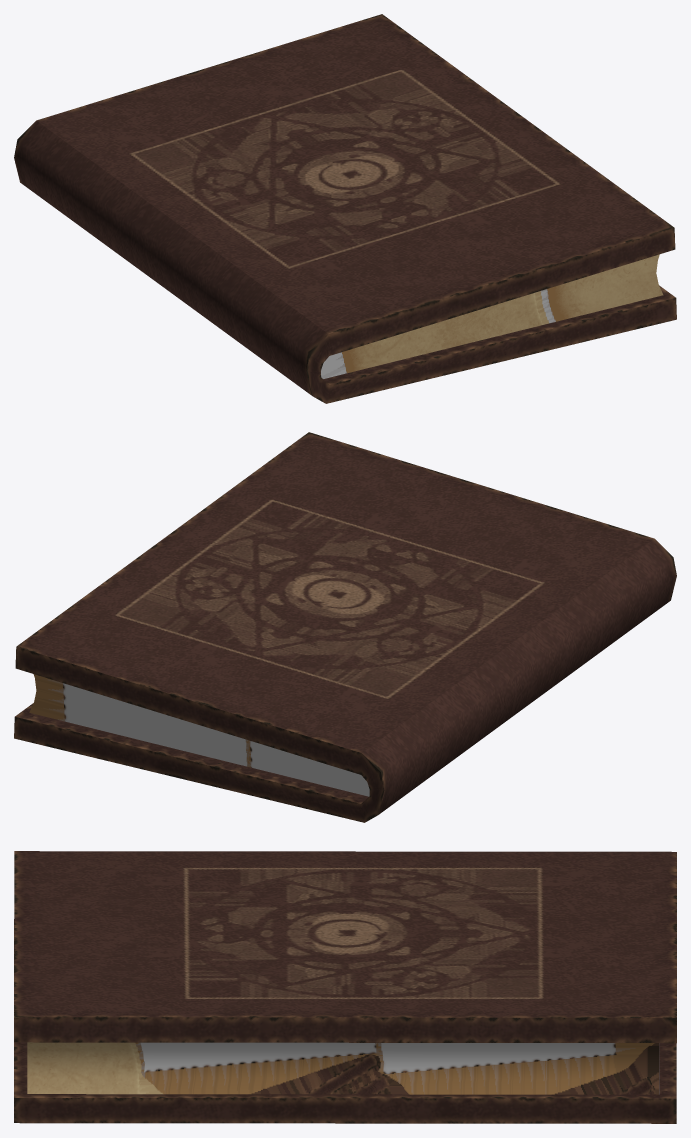
Rendered from Book_Practice_closed.fbx.
3 renders of one model, top to bottom at view 1: azimuth 30°, elevation 25°; view 2: azimuth 150°, elevation 25°; view 3: azimuth 270°, elevation 25°, orthographic. The views are drawn at different scales.
Visible parts, largest first — view 1: polySurface2, pCube7; view 2: polySurface2, pCube7; view 3: polySurface2, pCube7.
Part boxes in pixels (bbox=[...]): polySurface2: bbox=[14, 14, 676, 403]; pCube7: bbox=[321, 254, 663, 378]; polySurface2: bbox=[14, 432, 676, 822]; pCube7: bbox=[29, 674, 369, 796]; polySurface2: bbox=[14, 851, 676, 1123]; pCube7: bbox=[27, 1042, 659, 1094].
Size of the model in its own units: 1.07 by 0.2565 by 1.46.
